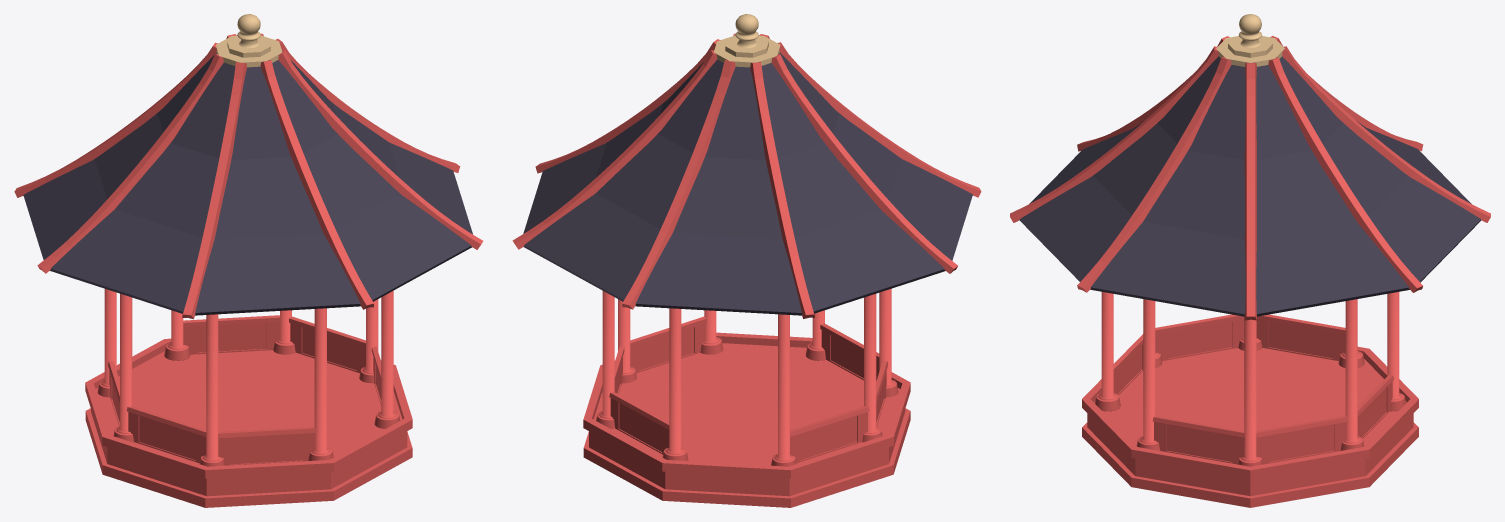
The model's file is Gazebo_B.fbx.
The picture shows the model from 3 angles, left to right: view 1: azimuth 30°, elevation 25°; view 2: azimuth 150°, elevation 25°; view 3: azimuth 270°, elevation 25°; orthographic projection.
Parts seen in each view (by area): view 1: Gazebo_A, Gazebo_A.002; view 2: Gazebo_A, Gazebo_A.002; view 3: Gazebo_A, Gazebo_A.002.
Part boxes in pixels (box(x1,y1,x2,y2)): Gazebo_A: box(23, 14, 472, 507); Gazebo_A.002: box(14, 33, 483, 319); Gazebo_A: box(523, 14, 972, 507); Gazebo_A.002: box(512, 33, 981, 318); Gazebo_A: box(1019, 14, 1481, 507); Gazebo_A.002: box(1010, 36, 1490, 320).
Bounding box in the file's own units: 747 × 723 × 747.
